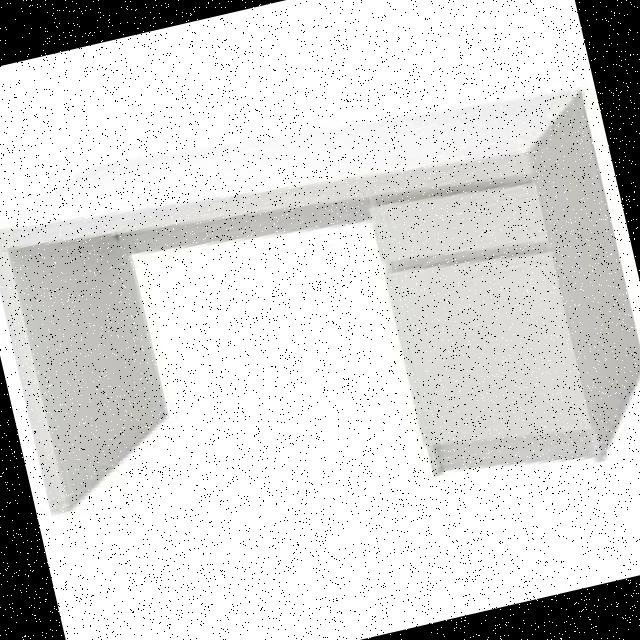Table: (0, 30, 640, 593)
